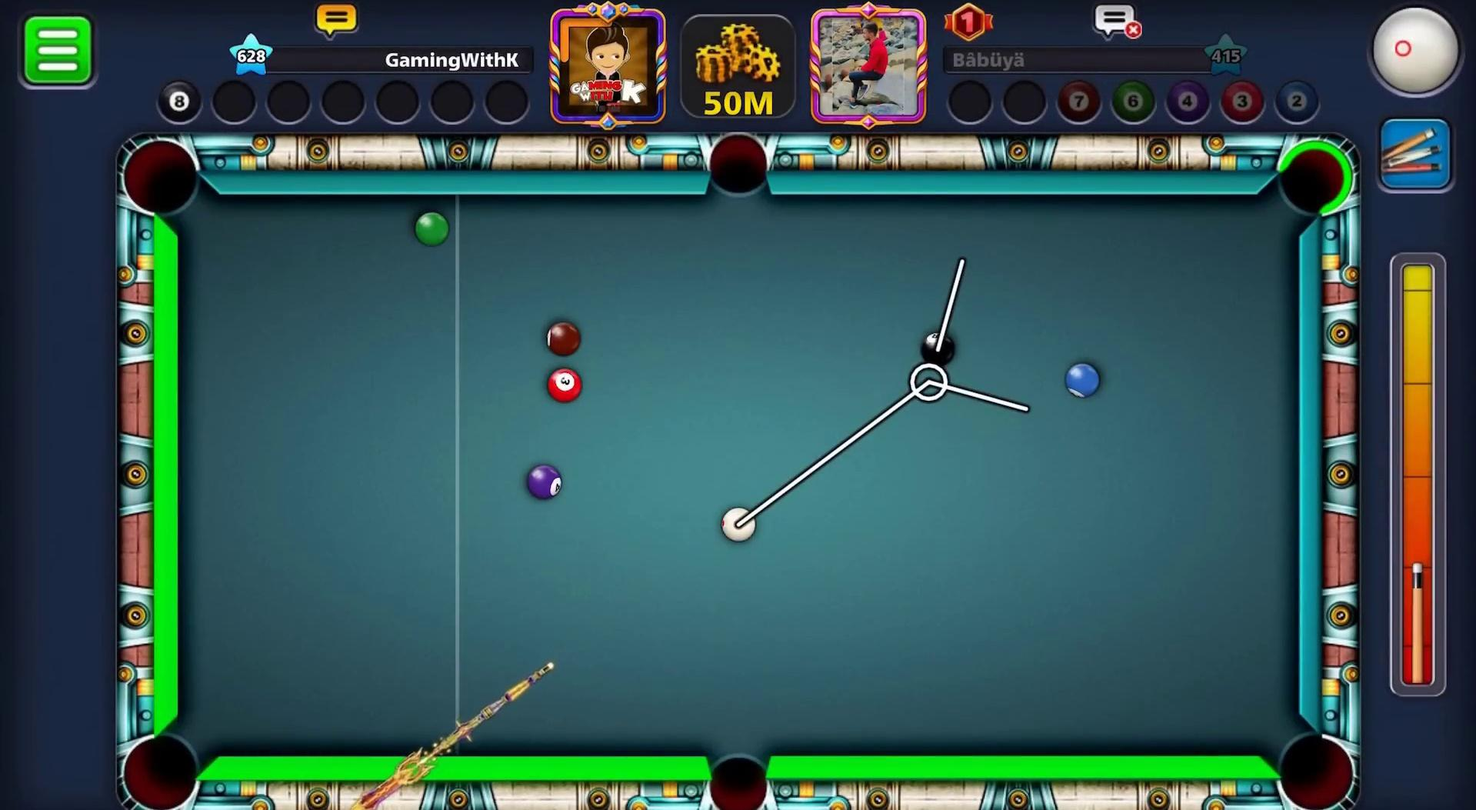Ball: (508, 453, 574, 508), (530, 313, 587, 364), (534, 363, 592, 410), (1060, 359, 1107, 407), (915, 332, 962, 372), (408, 210, 449, 249)
Force: (1386, 254, 1454, 700)
Guideline: (738, 248, 1035, 532)
Hole: (91, 709, 229, 809), (1249, 705, 1381, 809), (106, 124, 209, 227), (1266, 126, 1364, 229), (685, 714, 777, 809), (703, 118, 792, 216)
Play_Area: (177, 192, 1296, 757)
Spin: (1363, 0, 1475, 111)
White: (715, 502, 758, 548)
